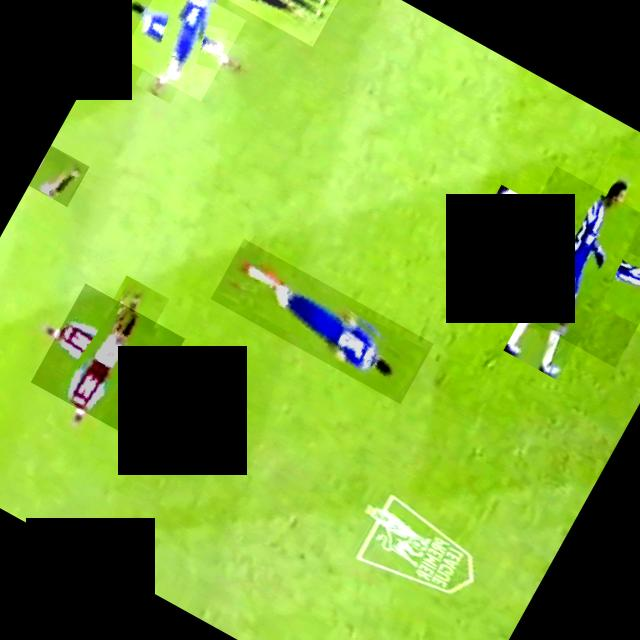referee: (175, 0, 339, 46)
soccer-player: (211, 238, 434, 404), (485, 165, 640, 367), (31, 283, 185, 437), (120, 0, 246, 101), (29, 144, 90, 207)
